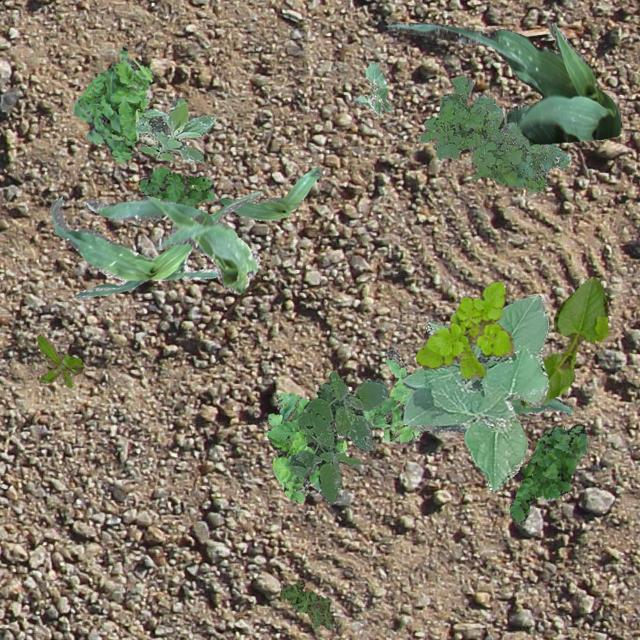crop: (400, 294, 548, 492), (386, 20, 620, 144), (48, 190, 260, 298), (85, 195, 258, 292), (520, 276, 608, 406), (216, 166, 322, 220), (354, 60, 391, 114), (510, 396, 572, 414), (502, 104, 530, 124)
weed: (264, 348, 422, 503), (416, 75, 568, 192), (288, 371, 388, 502), (414, 280, 512, 378), (72, 45, 152, 162), (508, 424, 586, 524), (134, 96, 216, 162), (134, 166, 213, 224), (280, 578, 332, 628), (36, 334, 82, 386)
